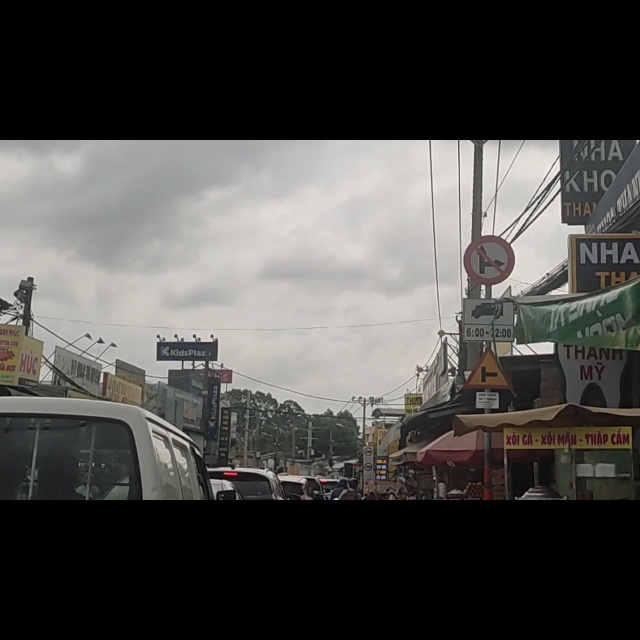bien_nguy_hiem: (465, 173, 513, 254), (464, 286, 517, 354), (466, 371, 511, 442)
